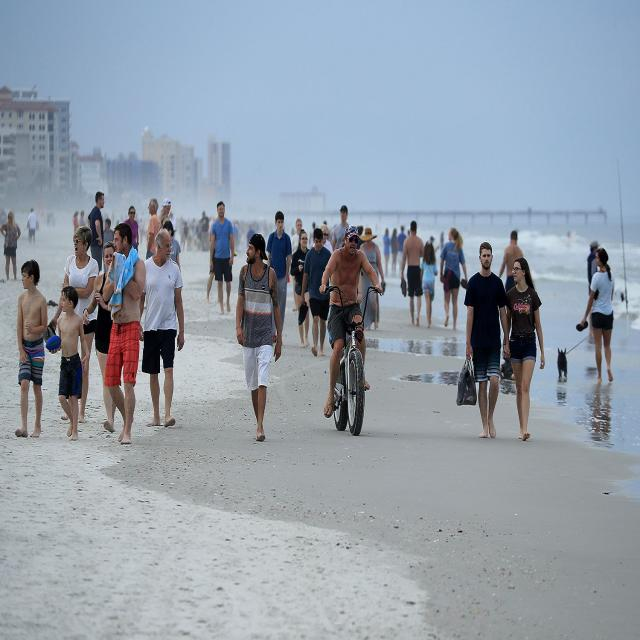Walking: (320, 224, 380, 416), (138, 226, 190, 437), (51, 226, 99, 425), (237, 226, 282, 434), (465, 242, 511, 439), (105, 230, 146, 430), (504, 257, 544, 440), (14, 260, 47, 439), (89, 241, 118, 428), (302, 228, 331, 358), (266, 211, 292, 334), (208, 201, 236, 314), (440, 227, 468, 331), (401, 222, 424, 327), (88, 192, 105, 266), (145, 200, 160, 262)
human: (582, 249, 616, 382), (360, 228, 384, 334), (291, 225, 310, 337), (498, 230, 524, 292), (420, 240, 438, 326), (0, 211, 21, 281), (331, 205, 351, 252), (163, 223, 181, 271), (586, 241, 600, 299), (124, 206, 139, 254), (159, 196, 174, 232), (596, 248, 612, 280), (198, 211, 210, 252), (26, 207, 38, 246), (397, 229, 407, 275), (290, 219, 304, 251), (390, 228, 399, 277), (382, 233, 391, 275), (321, 225, 333, 255), (102, 219, 114, 248), (358, 227, 376, 242), (452, 229, 462, 251), (79, 210, 86, 231), (73, 211, 79, 233)
loitering: (0, 192, 572, 472)
